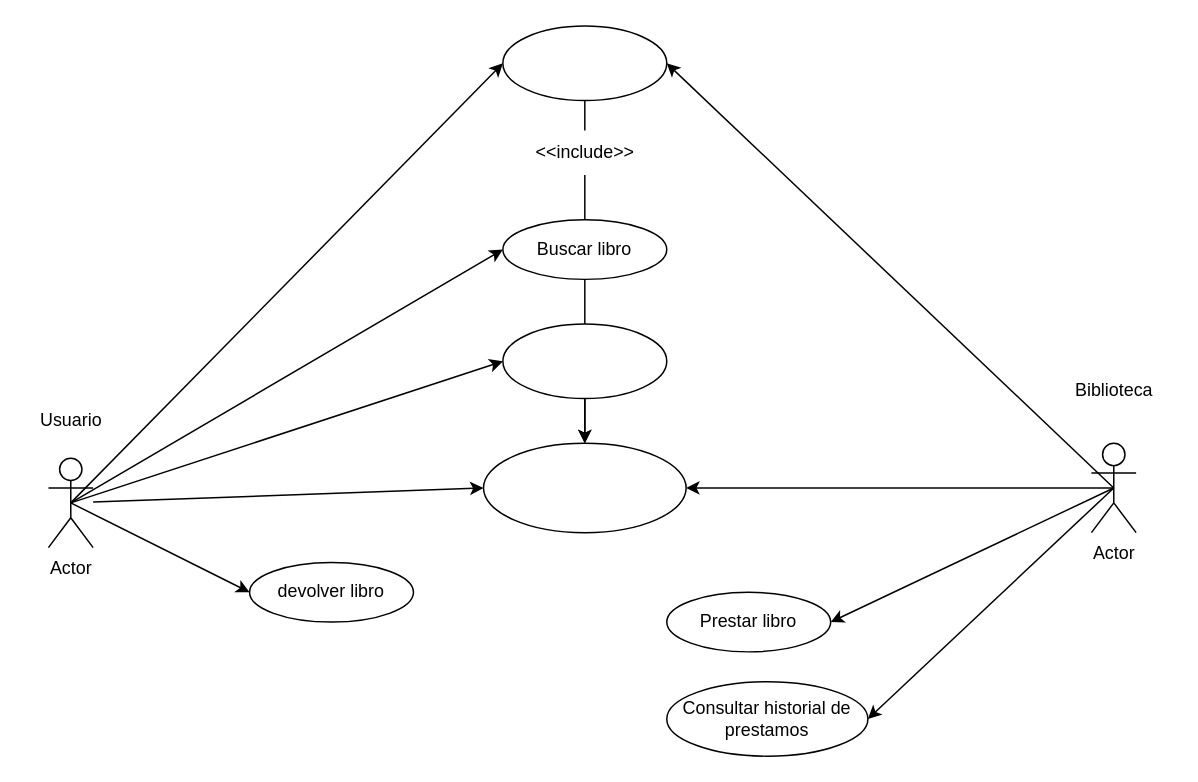
The diagram is 1198 pixels wide and 782 high, and some of its shapes have lost their labels. Each missing label, with the box of its shape:
Reservar libros: (501, 25, 667, 101)
Verificar del estado del libro: (482, 442, 686, 533)
Verificar disponibilidad: (501, 323, 667, 399)
